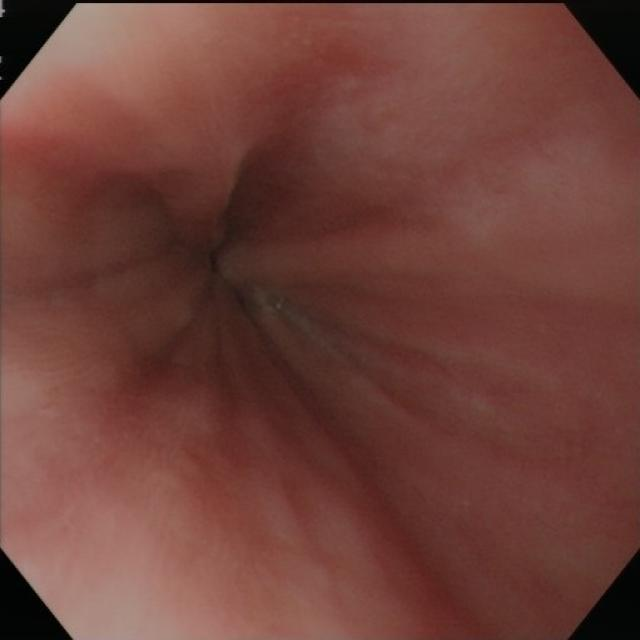I: (129, 148, 334, 389)
